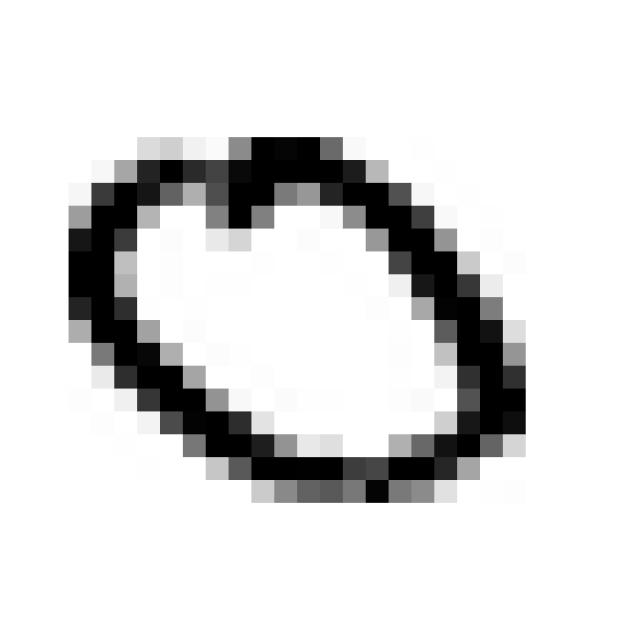5 -five-: (48, 110, 544, 524)
